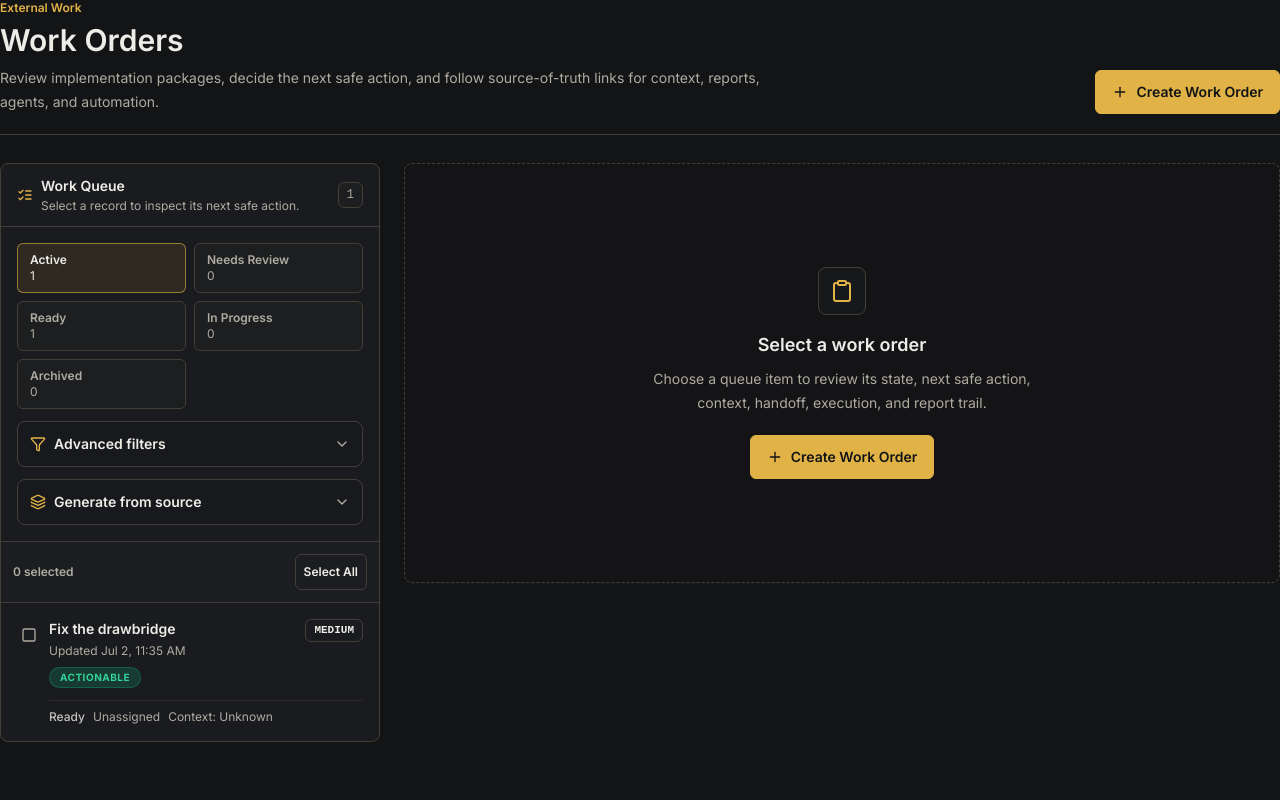
Scenario: WorkOrdersPage — Project Context (M17E-2) › selected work order shows Next Step card and source-of-truth links
Click the heading "Fix the drawbridge".
click(117, 629)  # box top-left (49, 619), bottom-right (186, 639)
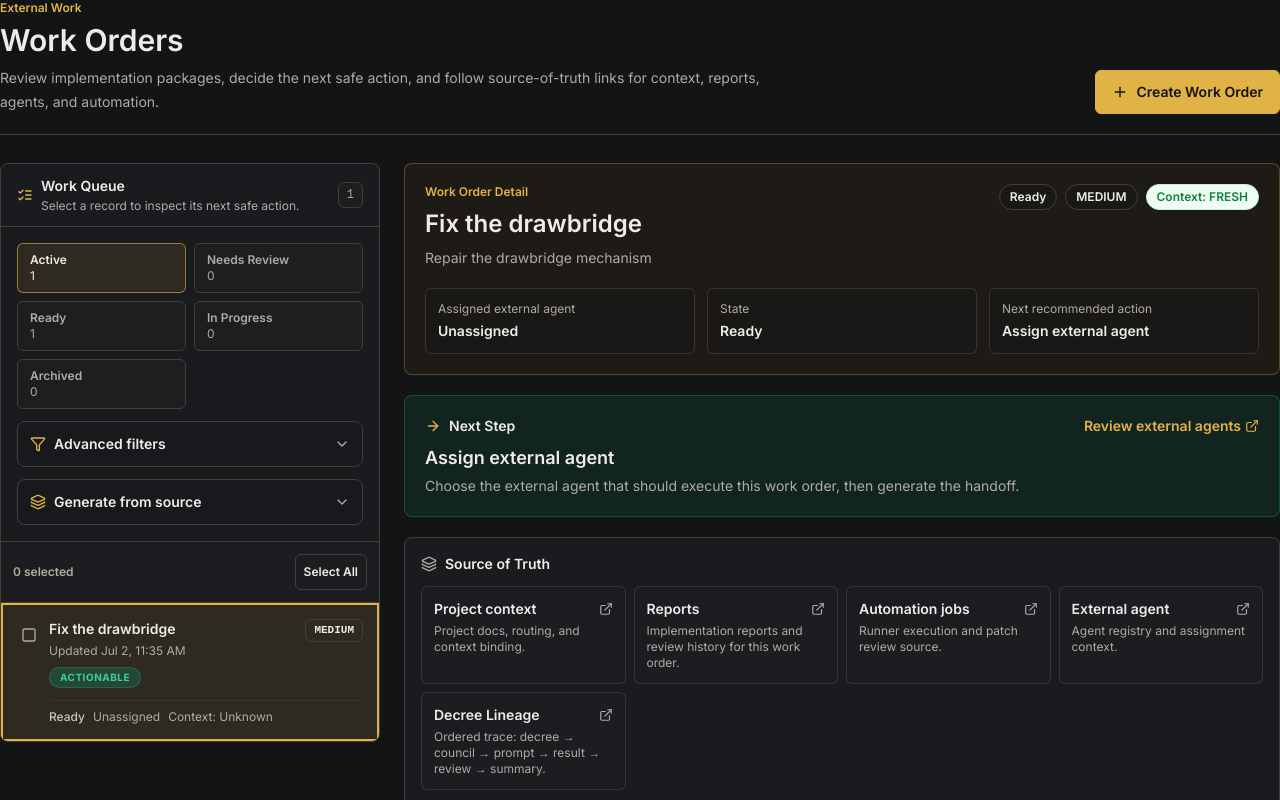
Expected: the text "Next Step" is shown, top-left (425, 417), bottom-right (515, 434)
Expected: the text "Assign external agent" is shown, top-left (1002, 322), bottom-right (1149, 339)
